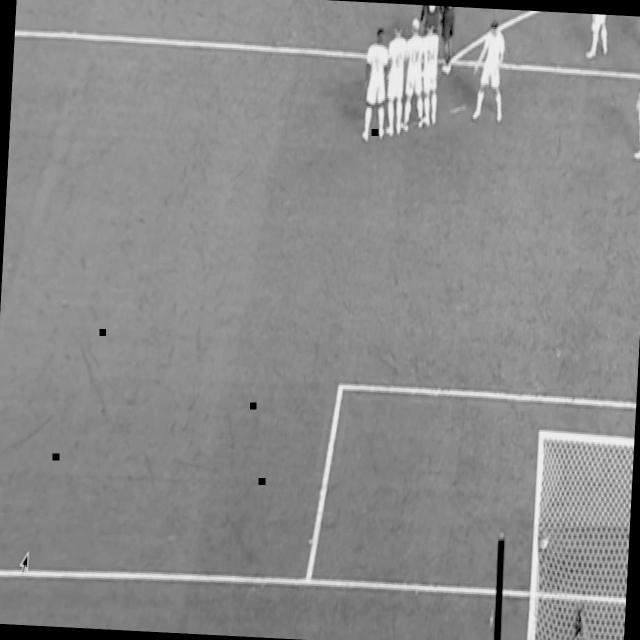player-white: (469, 13, 510, 129), (358, 24, 392, 147), (399, 19, 429, 132), (381, 19, 408, 140), (418, 14, 443, 128), (436, 6, 460, 78), (584, 14, 614, 62), (630, 43, 640, 162), (416, 5, 442, 40)
